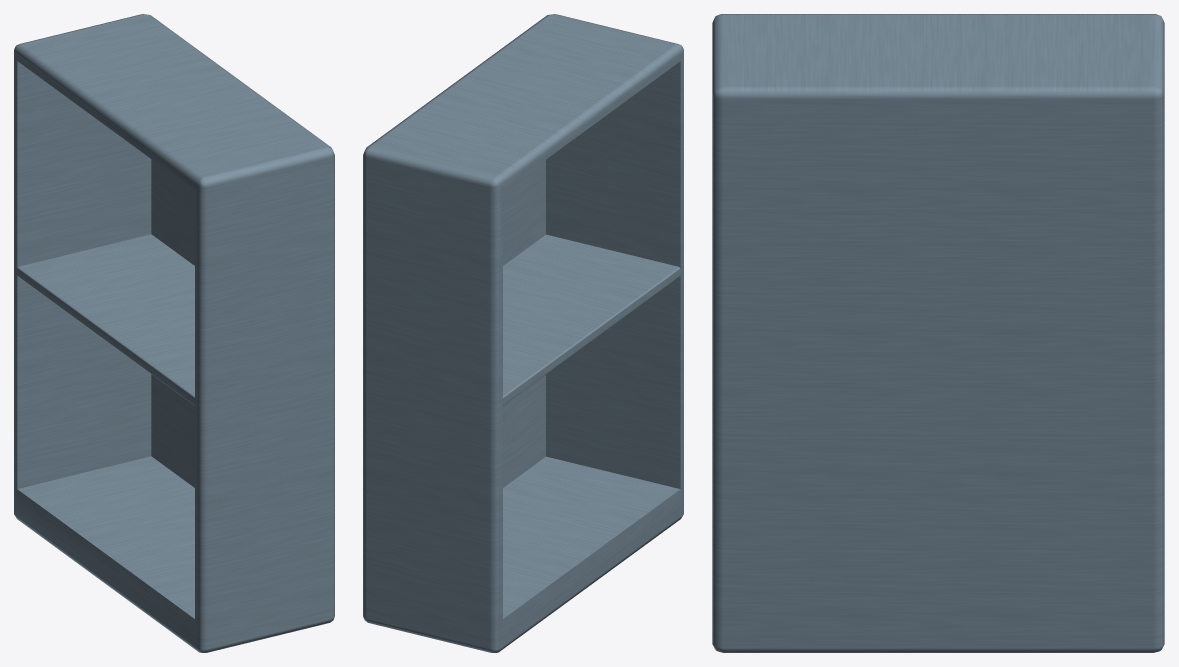
File: Rack.fbx
3 renders of one model, left to right at view 1: azimuth 30°, elevation 25°; view 2: azimuth 150°, elevation 25°; view 3: azimuth 270°, elevation 25°, orthographic. The views are drawn at different scales.
Parts seen in each view (by area): view 1: Rack; view 2: Rack; view 3: Rack.
Boxes of the visible parts, x1=… form: Rack: x1=14, y1=14, x2=334, y2=652; Rack: x1=363, y1=14, x2=683, y2=652; Rack: x1=712, y1=14, x2=1164, y2=652.
Bounding box in the file's own units: 41.22 × 137 × 99.08.
Materials: 1 (1 with a texture image).
